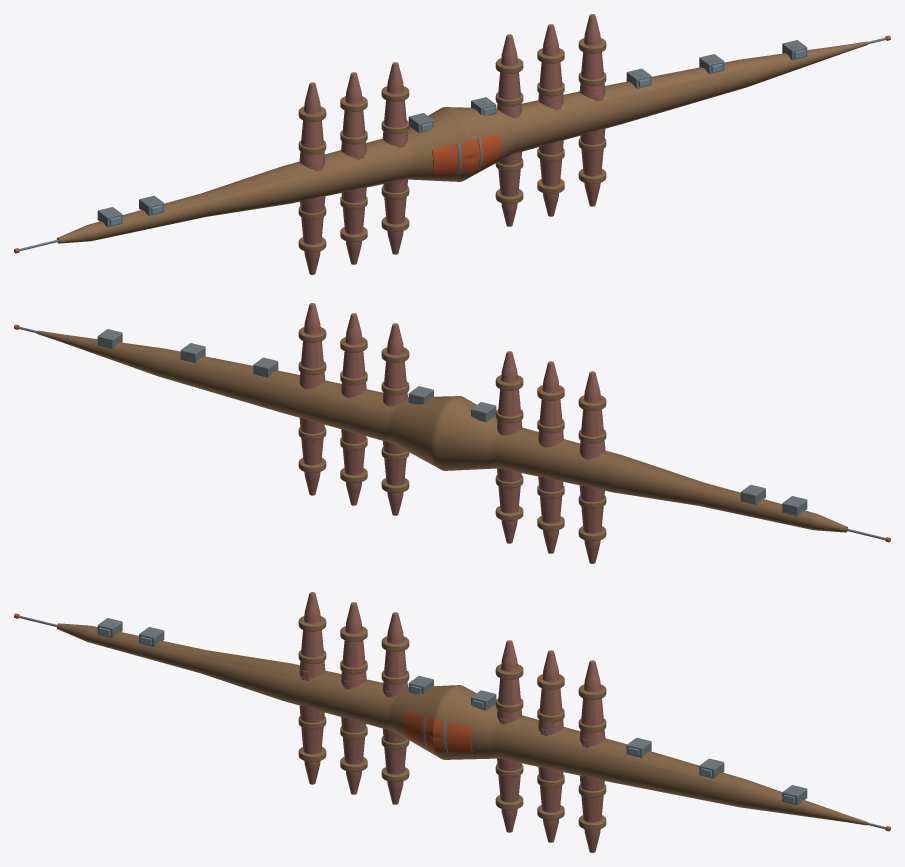
3 views of the same model, one above another, from view 1: azimuth 30°, elevation 25°; view 2: azimuth 150°, elevation 25°; view 3: azimuth 330°, elevation 25° (orthographic).
Parts seen in each view (by area): view 1: Shipyard axial spine, Shipyard vertical segment 0, Shipyard vertical segment 5, Shipyard vertical segment 1, Shipyard vertical segment 2, Shipyard vertical segment 4, Shipyard vertical segment 3, Shipyard central orange field; view 2: Shipyard axial spine, Shipyard vertical segment 0, Shipyard vertical segment 1, Shipyard vertical segment 5, Shipyard vertical segment 2, Shipyard vertical segment 4, Shipyard vertical segment 3; view 3: Shipyard axial spine, Shipyard vertical segment 0, Shipyard vertical segment 5, Shipyard vertical segment 1, Shipyard vertical segment 4, Shipyard vertical segment 3, Shipyard vertical segment 2, Shipyard central orange field.
Boxes of the visible parts, x1,y1,x2,y2 form: Shipyard axial spine: [57, 41, 868, 243]; Shipyard vertical segment 0: [299, 82, 325, 274]; Shipyard vertical segment 5: [579, 14, 605, 206]; Shipyard vertical segment 1: [341, 72, 366, 264]; Shipyard vertical segment 2: [382, 62, 407, 254]; Shipyard vertical segment 4: [538, 24, 563, 216]; Shipyard vertical segment 3: [497, 34, 522, 226]; Shipyard central orange field: [432, 133, 500, 174]; Shipyard axial spine: [36, 330, 847, 532]; Shipyard vertical segment 0: [579, 371, 605, 563]; Shipyard vertical segment 1: [538, 361, 563, 553]; Shipyard vertical segment 5: [299, 303, 325, 495]; Shipyard vertical segment 2: [497, 351, 522, 543]; Shipyard vertical segment 4: [341, 313, 366, 505]; Shipyard vertical segment 3: [382, 323, 407, 515]; Shipyard axial spine: [57, 623, 867, 825]; Shipyard vertical segment 0: [299, 592, 325, 784]; Shipyard vertical segment 5: [579, 660, 605, 852]; Shipyard vertical segment 1: [341, 602, 366, 794]; Shipyard vertical segment 4: [538, 650, 563, 842]; Shipyard vertical segment 3: [497, 640, 522, 832]; Shipyard vertical segment 2: [382, 612, 407, 804]; Shipyard central orange field: [404, 711, 472, 752].
Size of the model in its own units: 8.43 by 1.75 by 0.6451.
6 materials, 2 textured.
